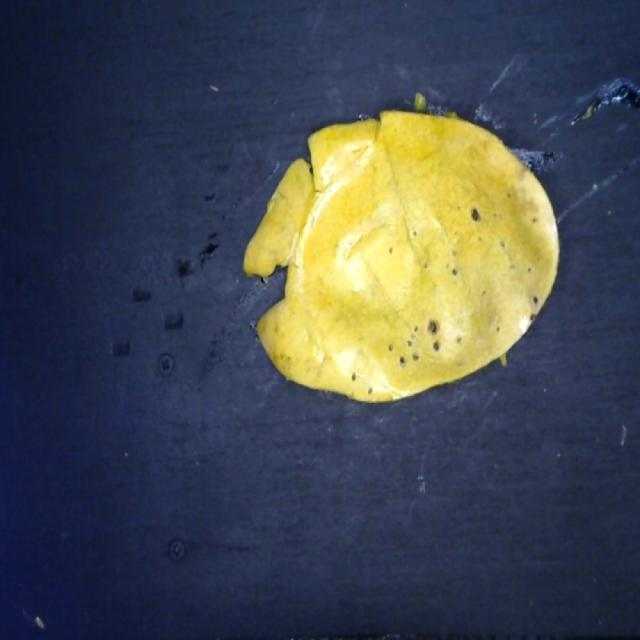biodegradable: (238, 102, 564, 406)
